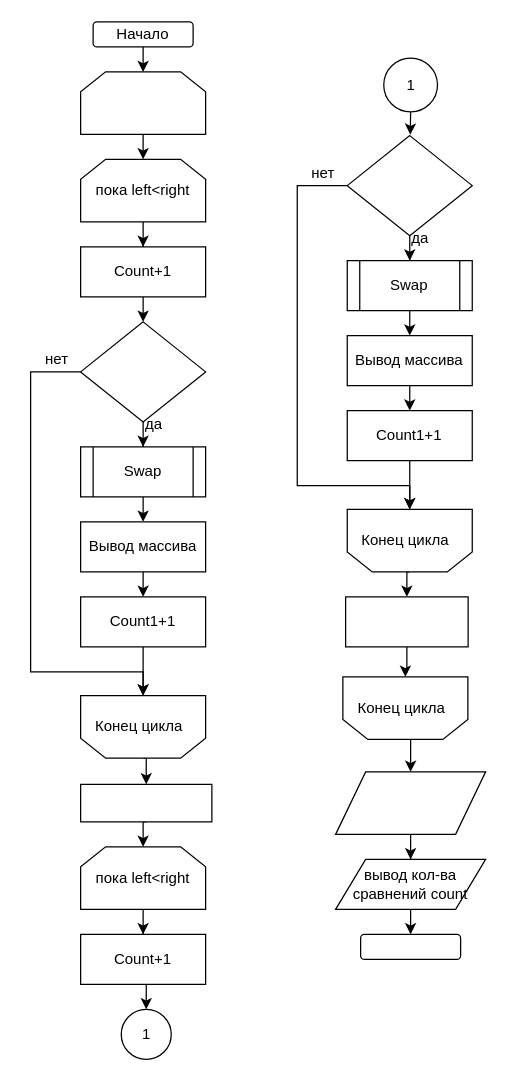
The diagram is 508 pixels wide and 1081 high, and some of its shapes have lost their labels. Each missing label, with the box of its shape:
left+1: (344, 596, 468, 647)
right-1: (79, 783, 212, 822)
вывод кол-ва перемещений count1: (334, 771, 486, 834)
Конец: (359, 933, 461, 959)
пока не произошло перемещение: (79, 71, 206, 134)
Эл. больше предыдущего?: (346, 134, 472, 236)
Эл. больше следующего?: (79, 321, 206, 422)
